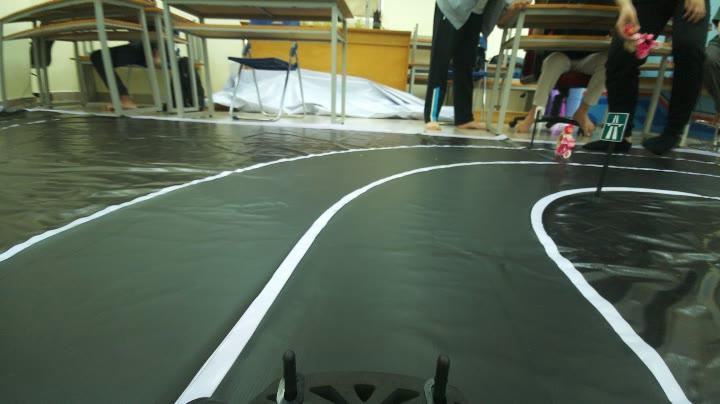highway_entry: (598, 108, 630, 146)
